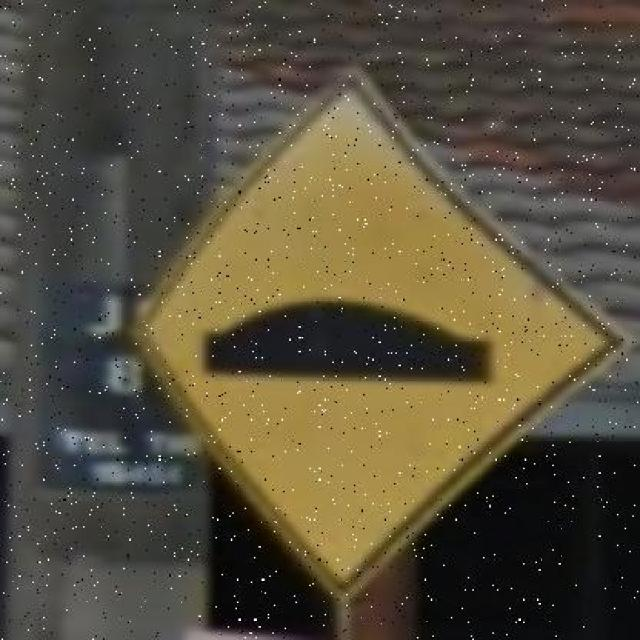Polisi Tidur: (112, 62, 640, 603)
